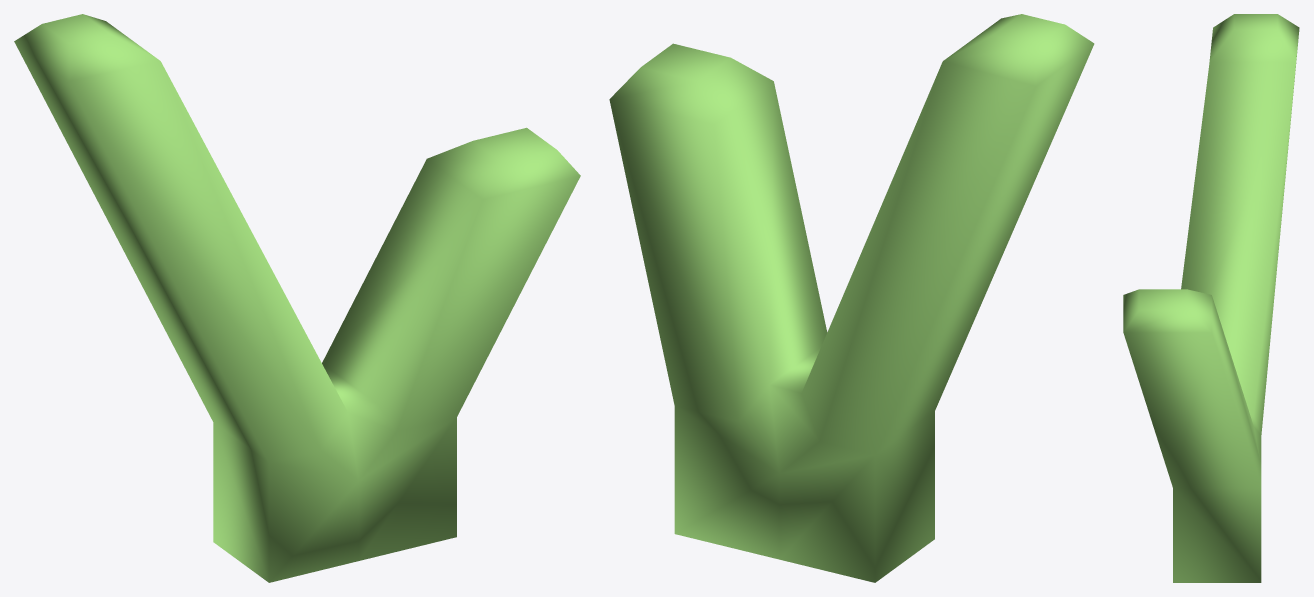
Rendered from potato stage 1.glb.
3 views of the same model, side by side, from view 1: azimuth 30°, elevation 25°; view 2: azimuth 150°, elevation 25°; view 3: azimuth 270°, elevation 25° (orthographic). The views are drawn at different scales.
Parts seen in each view (by area): view 1: potato stage 1; view 2: potato stage 1; view 3: potato stage 1.
Part boxes in pixels (box(x1,y1,x2,y2)): potato stage 1: box(14, 14, 580, 582); potato stage 1: box(609, 14, 1094, 582); potato stage 1: box(1123, 14, 1299, 582).
Bounding box in the file's own units: 1.86 × 2.14 × 0.788.
1 material, 1 textured.
